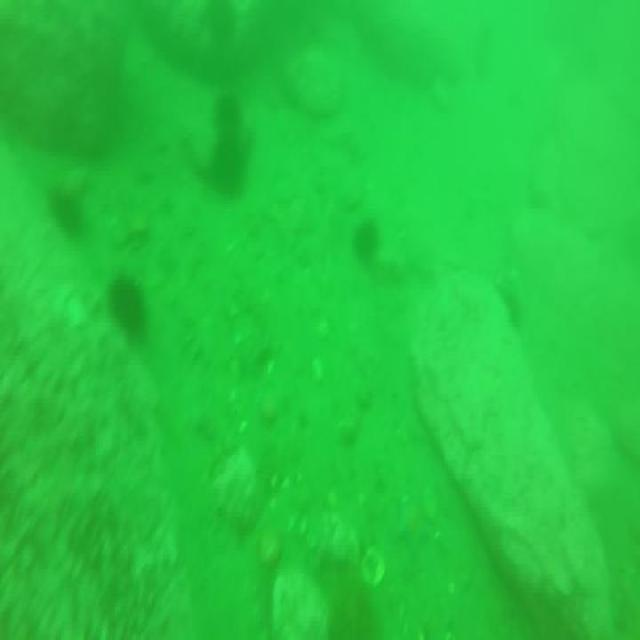echinus: (109, 277, 145, 338), (49, 188, 85, 232), (356, 223, 378, 256)
scallop: (362, 547, 385, 588)
